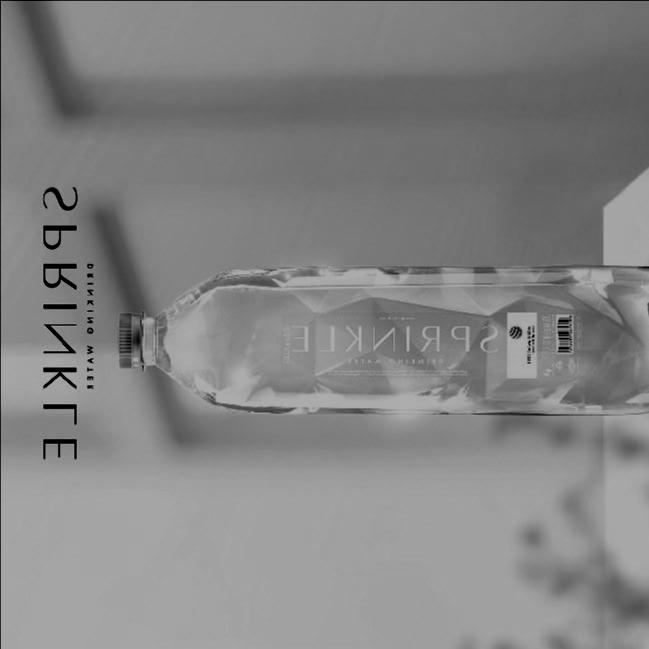bottle: (107, 254, 649, 432)
